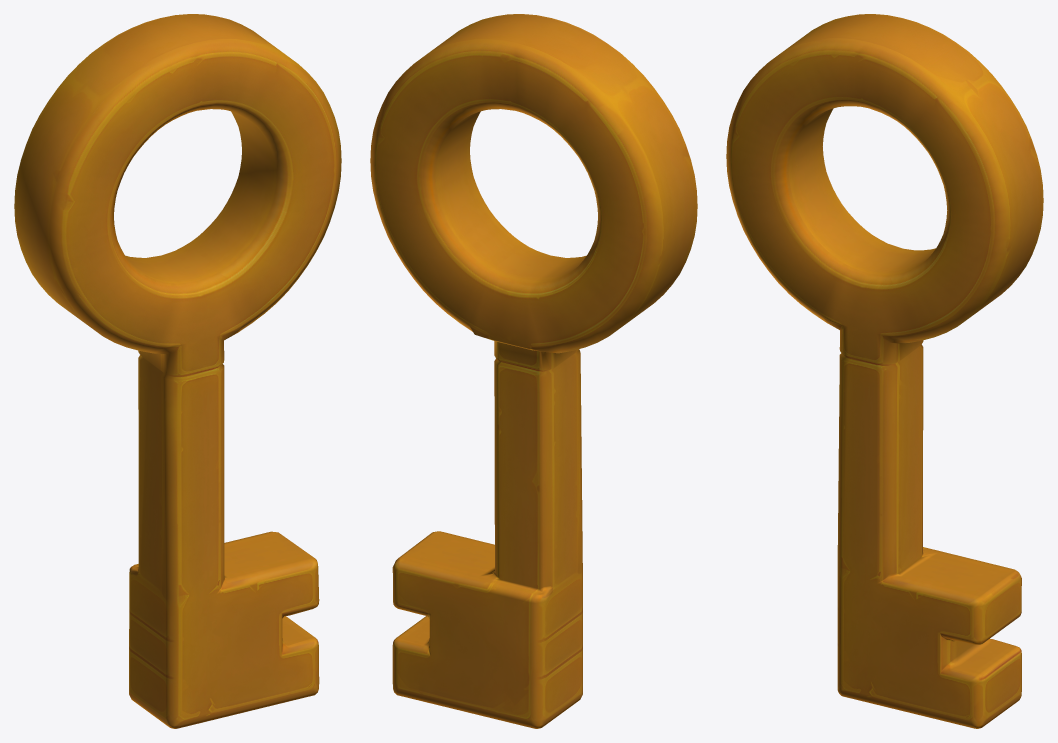
Rendered from key.glb.
The picture shows the model from 3 angles, left to right: view 1: azimuth 30°, elevation 25°; view 2: azimuth 150°, elevation 25°; view 3: azimuth 330°, elevation 25°; orthographic projection. The views are drawn at different scales.
Parts seen in each view (by area): view 1: tripo_node_641c4a17-93ca-43a3-b592-796caecc7bfa; view 2: tripo_node_641c4a17-93ca-43a3-b592-796caecc7bfa; view 3: tripo_node_641c4a17-93ca-43a3-b592-796caecc7bfa.
Boxes of the visible parts, left/top/right/bottom form: tripo_node_641c4a17-93ca-43a3-b592-796caecc7bfa: left=14, top=14, right=341, bottom=728; tripo_node_641c4a17-93ca-43a3-b592-796caecc7bfa: left=370, top=14, right=697, bottom=728; tripo_node_641c4a17-93ca-43a3-b592-796caecc7bfa: left=726, top=14, right=1043, bottom=728.
Size of the model in its own units: 0.4507 by 0.9995 by 0.1255.
1 material, 1 textured.
